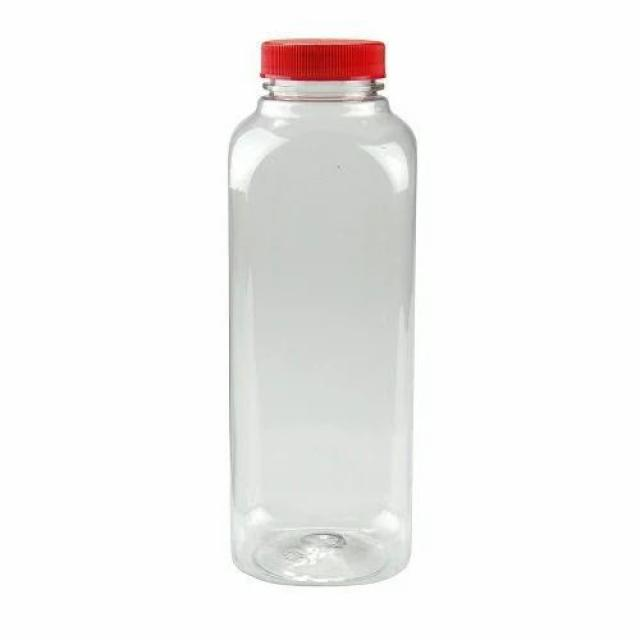bottom: (224, 510, 420, 588)
neck: (224, 29, 419, 153)
